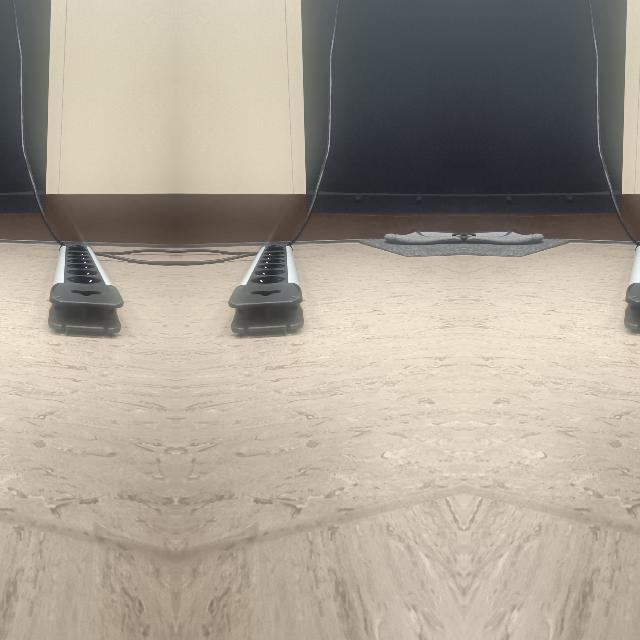obstacle: (229, 241, 305, 335), (45, 241, 121, 335), (622, 241, 640, 335)
